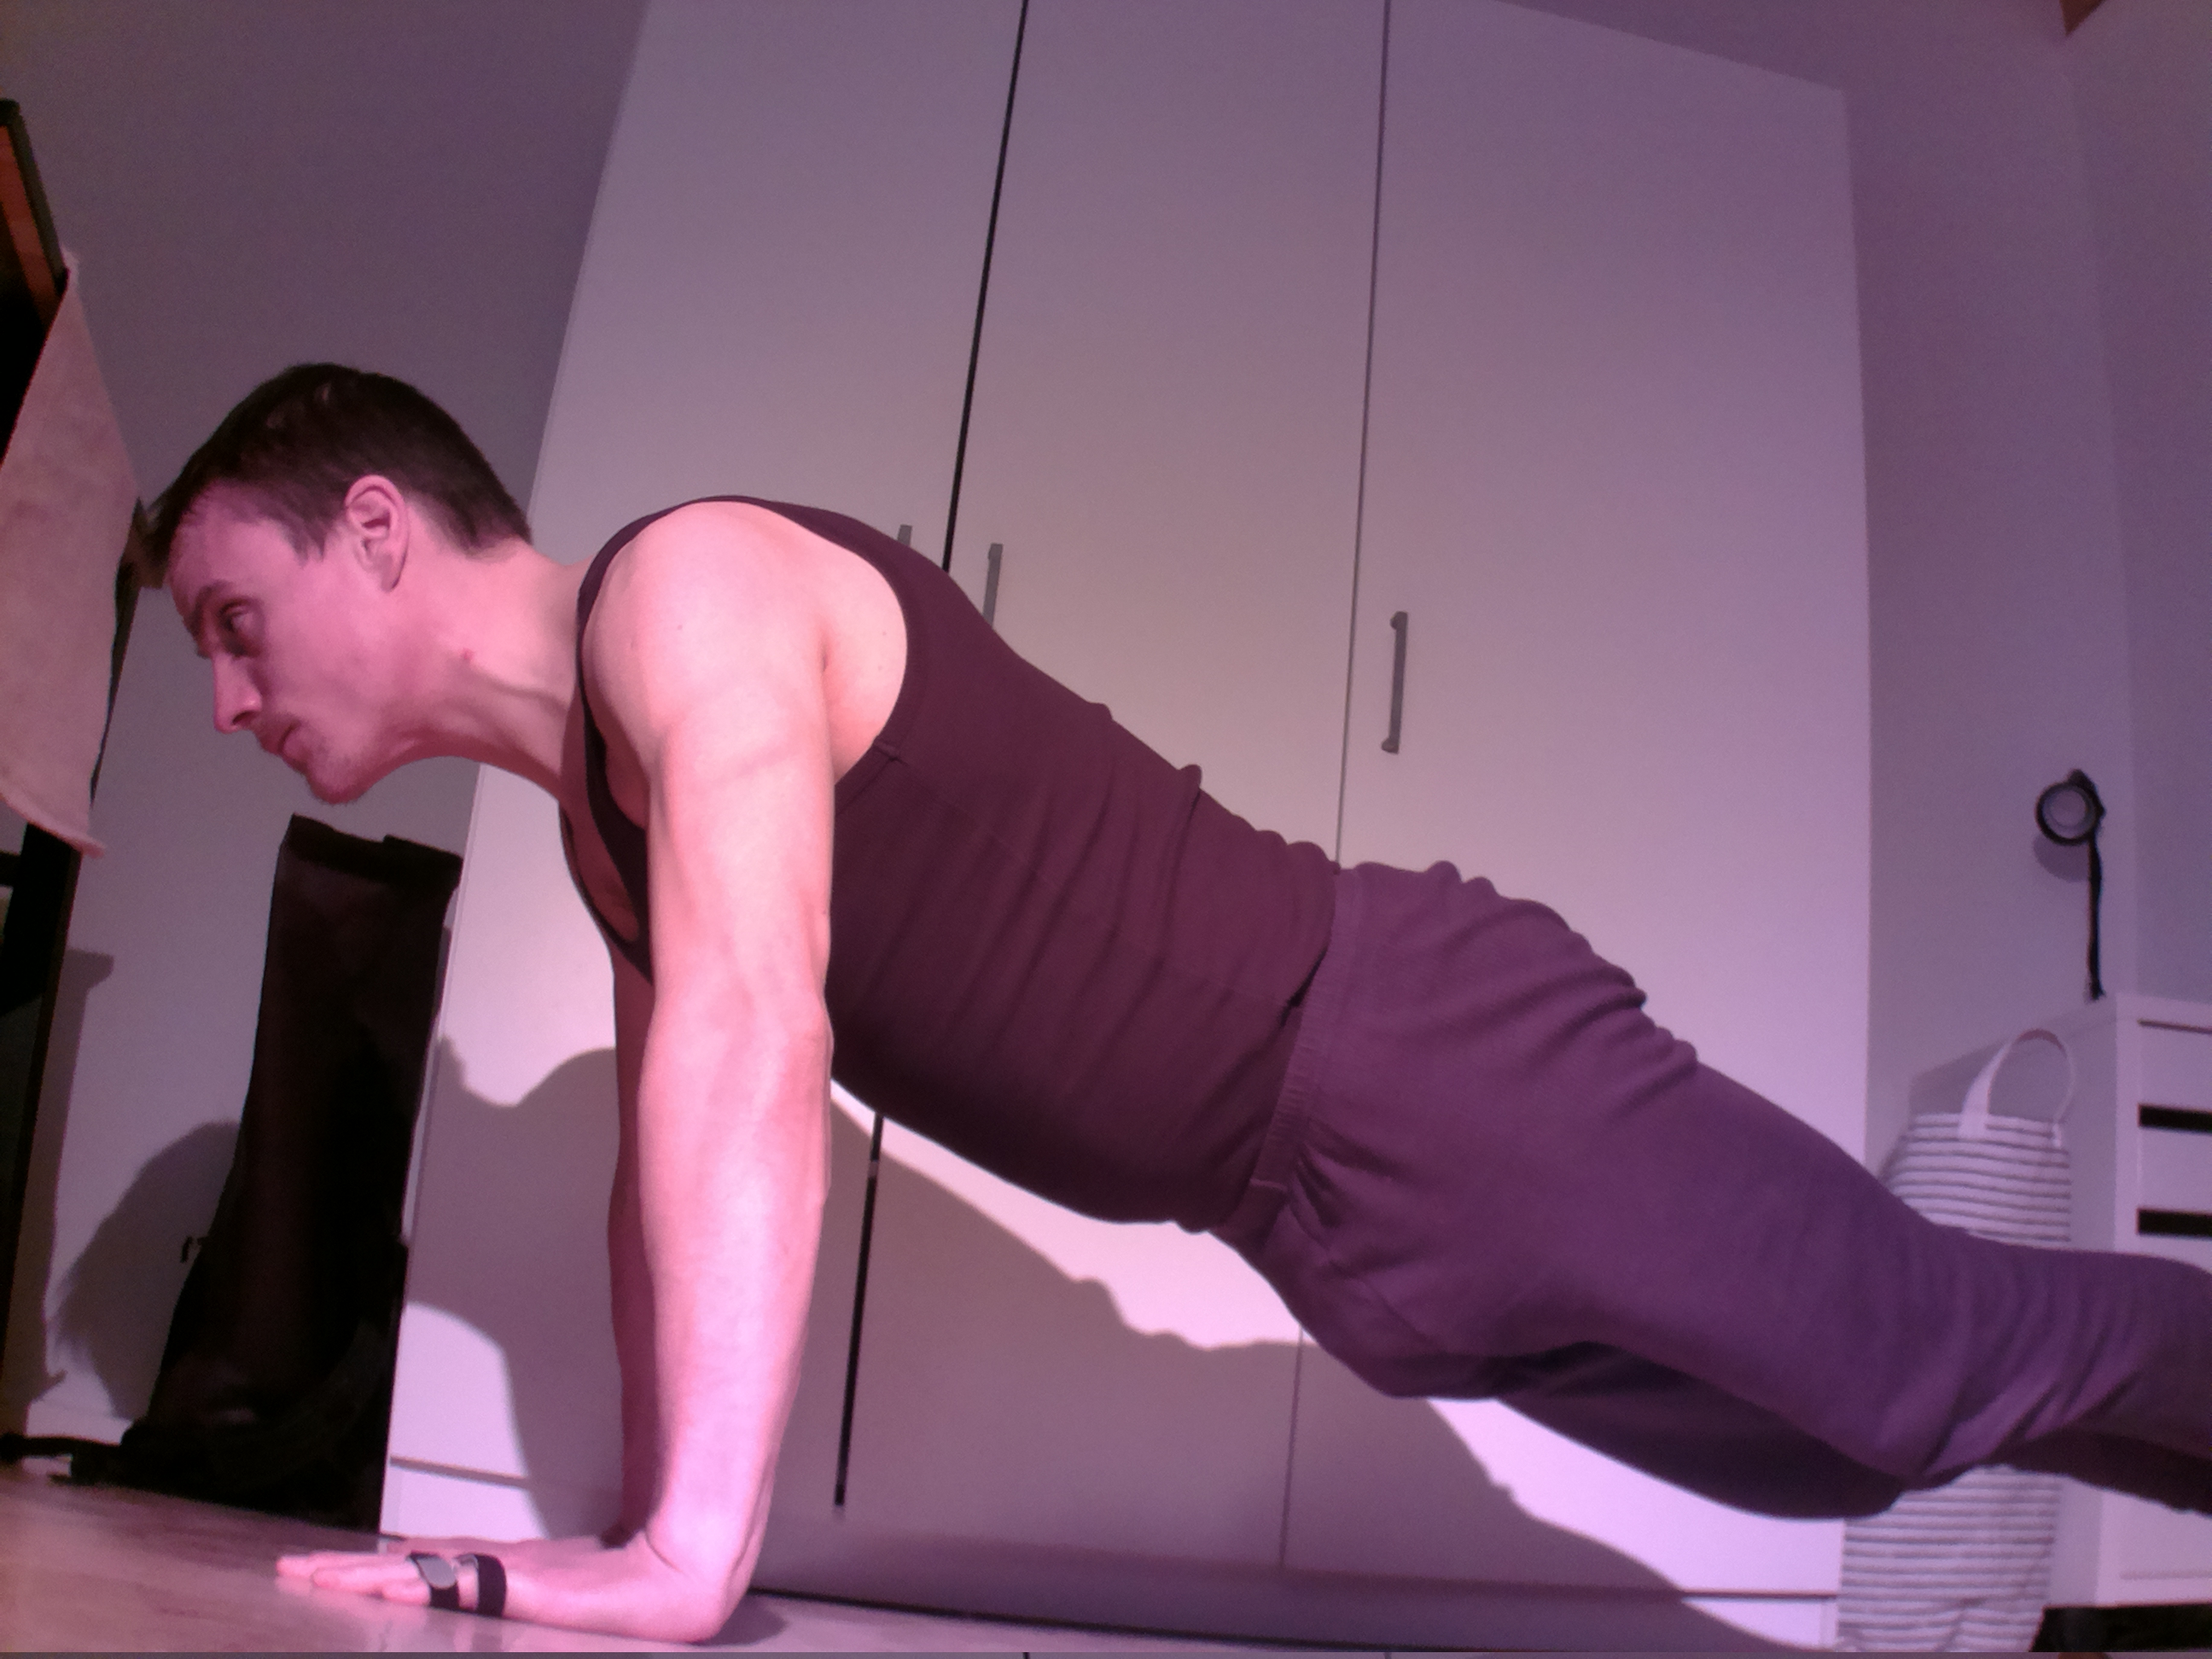CONAN: (118, 350, 1486, 1654)
